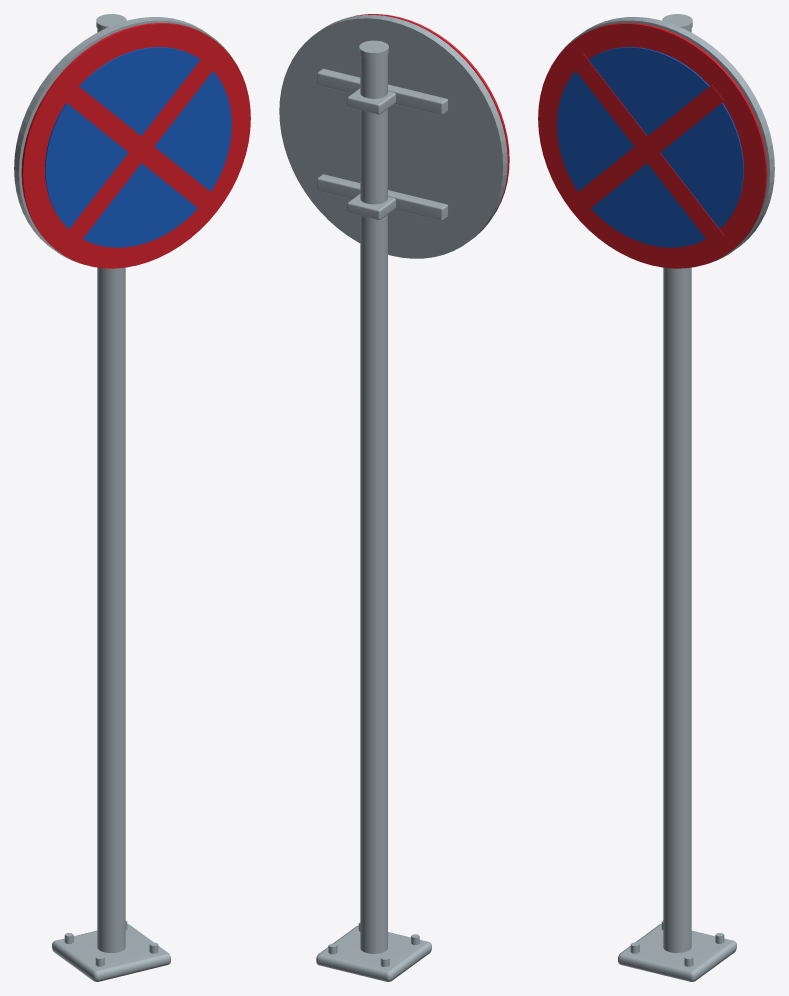
Rendered from DS_Sign_NoStopping.glb.
The picture shows the model from 3 angles, left to right: view 1: azimuth 30°, elevation 25°; view 2: azimuth 150°, elevation 25°; view 3: azimuth 330°, elevation 25°; orthographic projection. The views are drawn at different scales.
Parts seen in each view (by area): view 1: Face_Field.012, Post.015, Face_Border.012, ProhibitionCross0, ProhibitionSlash0, BasePlate.015, Plate_Back.012; view 2: Plate_Back.012, Post.015, BasePlate.015, RearRail.025, RearRail.024, PostClamp.025, PostClamp.024, Face_Border.012; view 3: Face_Field.012, Post.015, Face_Border.012, ProhibitionCross0, ProhibitionSlash0, BasePlate.015, Plate_Back.012.
Boxes of the visible parts, box(x1,y1,x2,y2) form: Face_Field.012: box(45, 47, 231, 247); Post.015: box(97, 28, 125, 952); Face_Border.012: box(21, 23, 250, 268); ProhibitionCross0: box(64, 53, 218, 245); ProhibitionSlash0: box(64, 85, 218, 213); BasePlate.015: box(52, 924, 170, 981); Plate_Back.012: box(14, 17, 230, 263); Plate_Back.012: box(279, 15, 507, 258); Post.015: box(360, 55, 387, 953); BasePlate.015: box(316, 925, 431, 981); RearRail.025: box(317, 68, 448, 115); RearRail.024: box(317, 174, 448, 220); PostClamp.025: box(347, 88, 395, 114); PostClamp.024: box(347, 194, 395, 219); Face_Border.012: box(354, 14, 509, 212); Face_Field.012: box(557, 47, 743, 247); Post.015: box(663, 28, 691, 952); Face_Border.012: box(538, 23, 767, 268); ProhibitionCross0: box(570, 85, 724, 213); ProhibitionSlash0: box(570, 53, 724, 245); BasePlate.015: box(618, 924, 736, 981); Plate_Back.012: box(558, 17, 774, 263).
Bounding box in the file's own units: 0.71 × 2.81 × 0.281.
